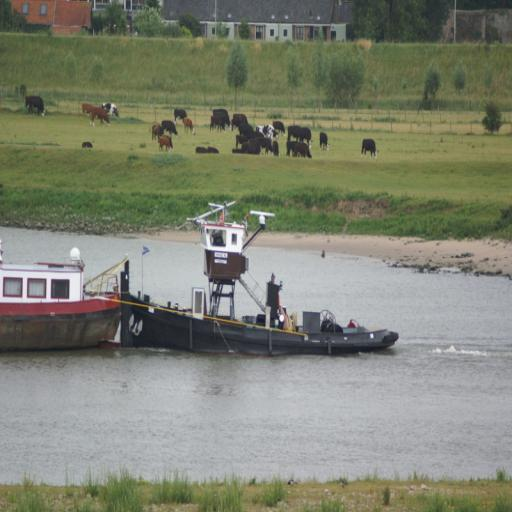tugboat: (118, 197, 404, 365)
